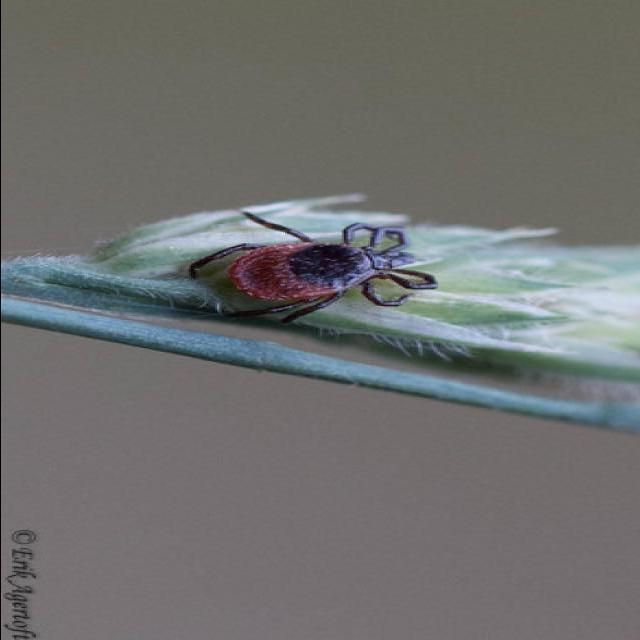Ixodes Ricinus-F: (186, 211, 437, 324)
